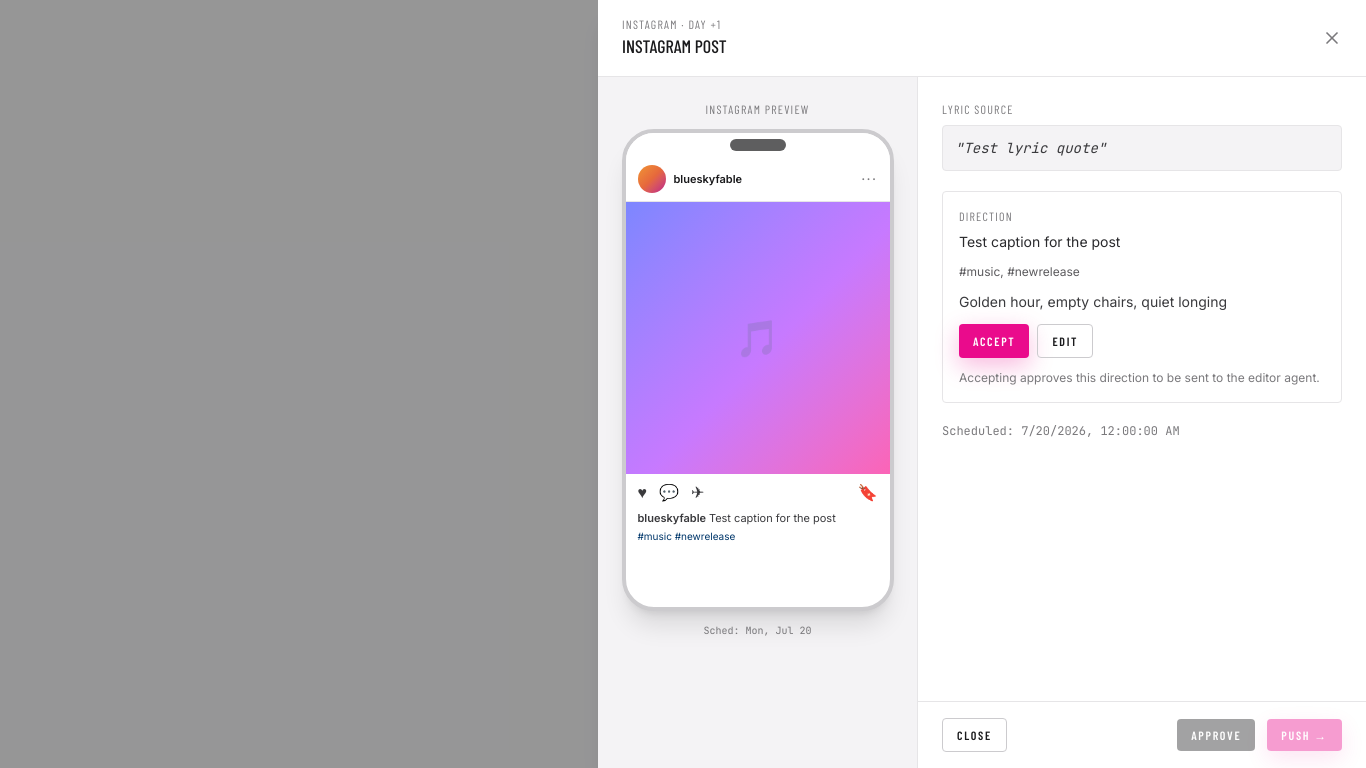
Scenario: PostEditor — Stage 1: Direction Review › switches to editable fields and shows Save & Accept / Cancel when Edit is clicked
The image size is (1366, 768).
What coordinates should you click on to do the following:
click the button "Edit"
I would click on:
 (1065, 341)
Its box is x1=1038 y1=324 x2=1093 y2=358.
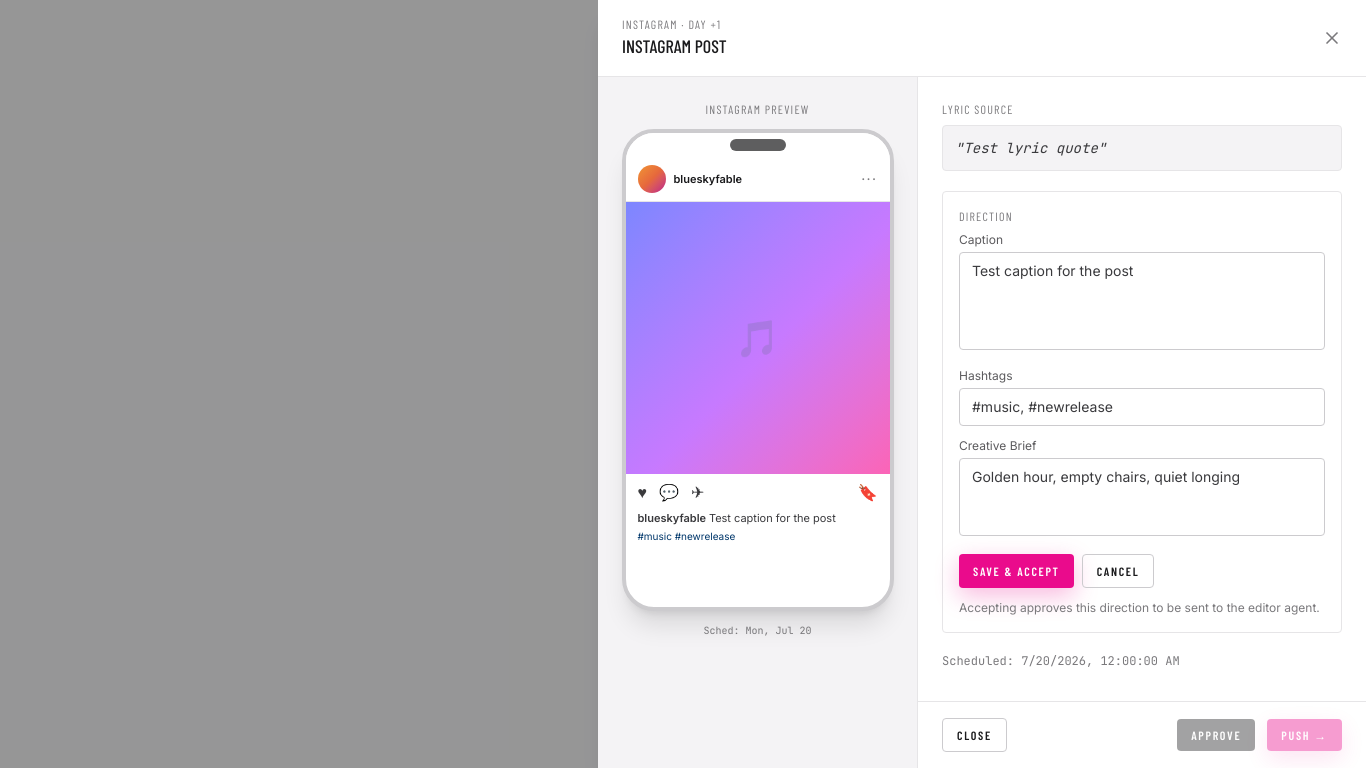
expect the text box showing "Test caption for the post" is shown: met, box x1=959 y1=252 x2=1325 y2=350
expect the button "Save & Accept" is shown: met, box x1=959 y1=554 x2=1074 y2=588
expect the button "Cancel" is shown: met, box x1=1082 y1=554 x2=1154 y2=588
